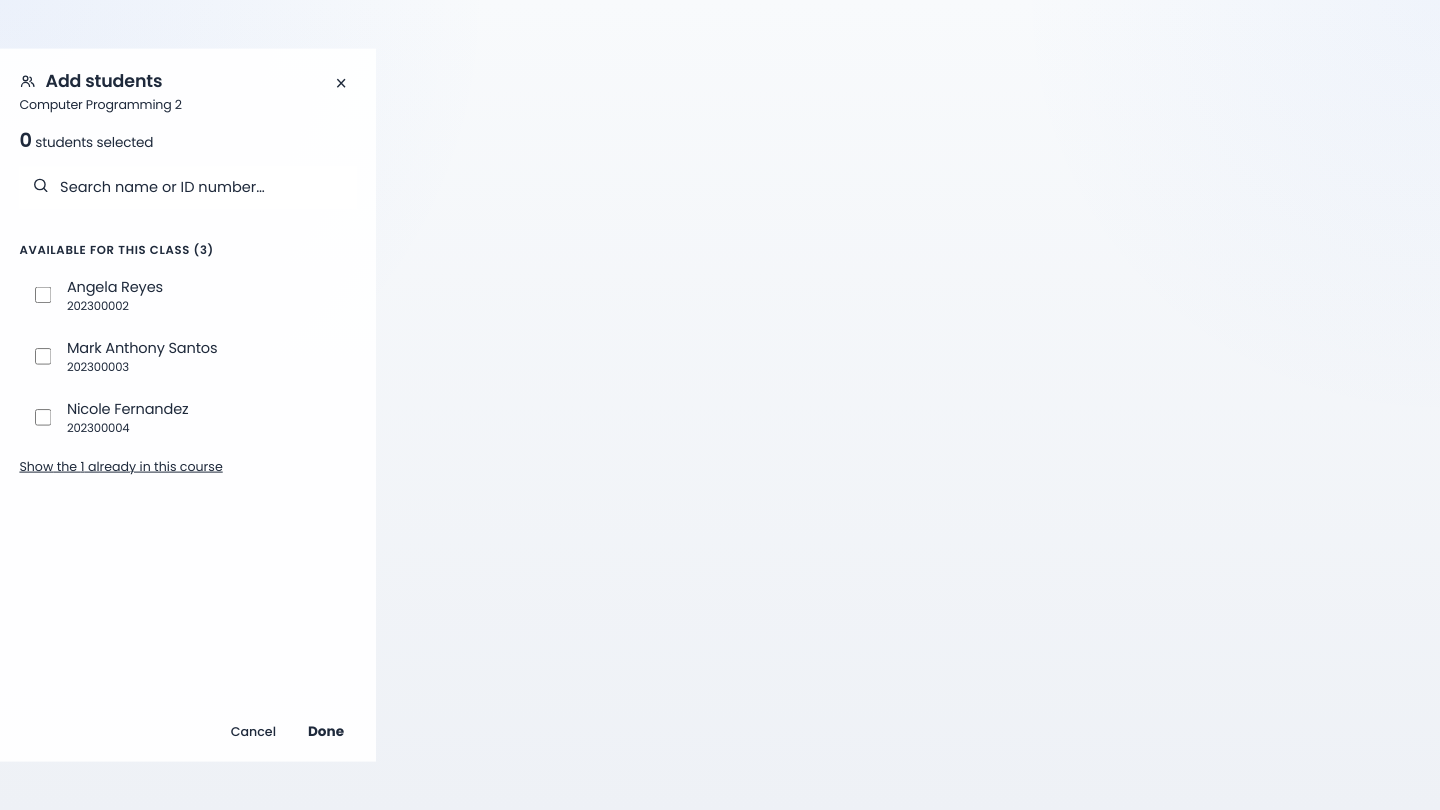
Test: PeoplePicker › a student another section already holds › is shown behind the toggle, greyed and closed
Click the button "Show the 1 already in this course": click(121, 467) [19, 458, 223, 476]
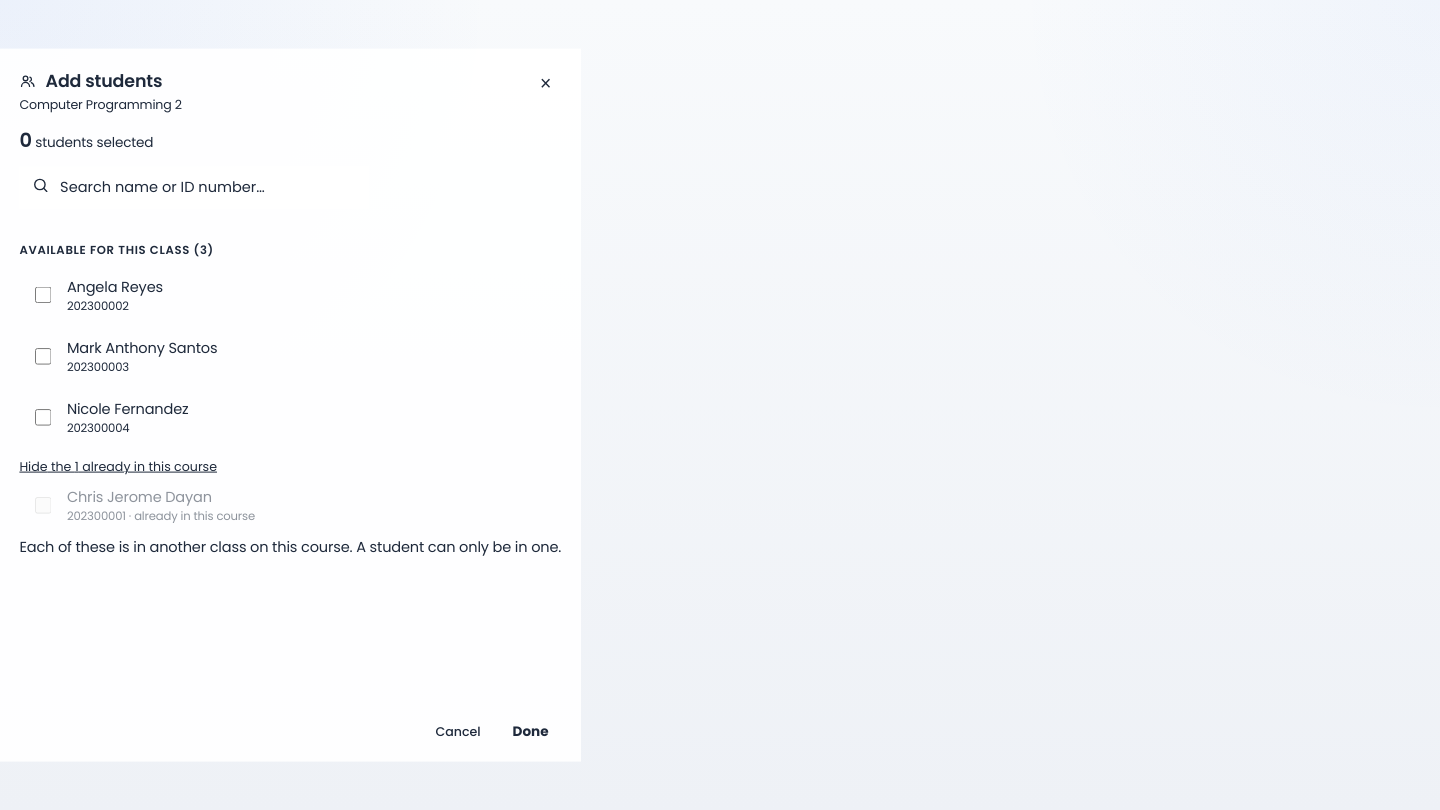
Check: the text "202300001 · already in this course" is shown, box [67, 508, 255, 525]
